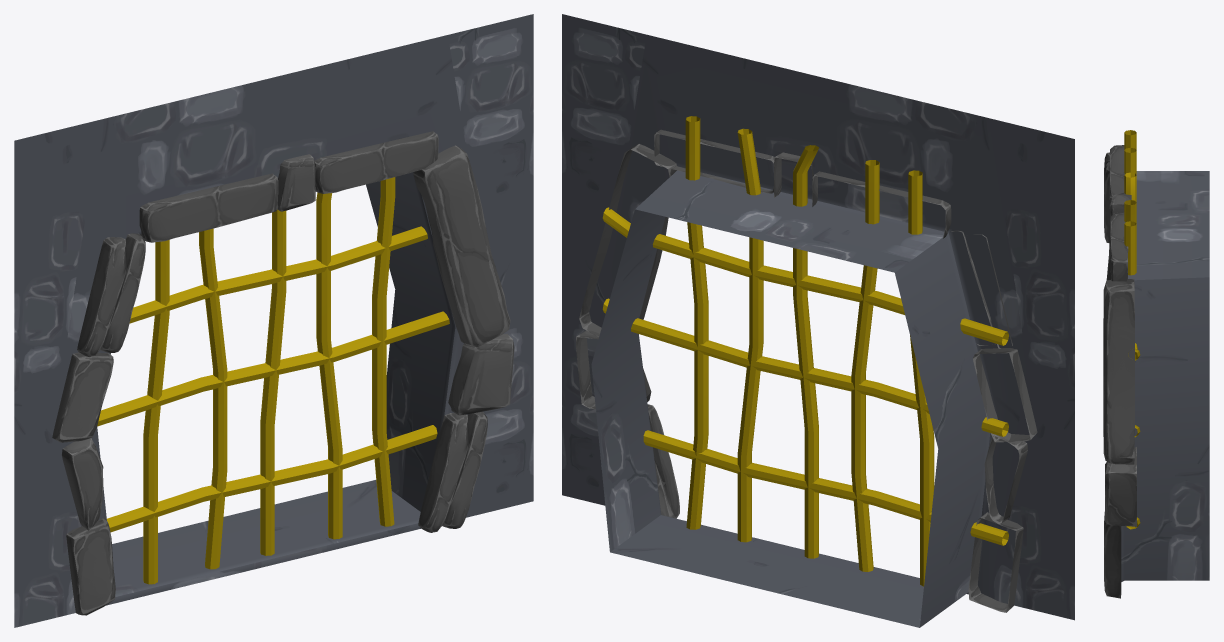
Rendered from Jaill wall.fbx.
The picture shows the model from 3 angles, left to right: view 1: azimuth 30°, elevation 25°; view 2: azimuth 150°, elevation 25°; view 3: azimuth 270°, elevation 25°; orthographic projection. The views are drawn at different scales.
Parts seen in each view (by area): view 1: polySurface85; view 2: polySurface85; view 3: polySurface85.
Boxes of the visible parts, x1,y1,x2,y2 form: polySurface85: (14, 14, 533, 627); polySurface85: (562, 14, 1074, 627); polySurface85: (1103, 130, 1209, 598).
Size of the model in its own units: 14 by 12.67 by 3.
